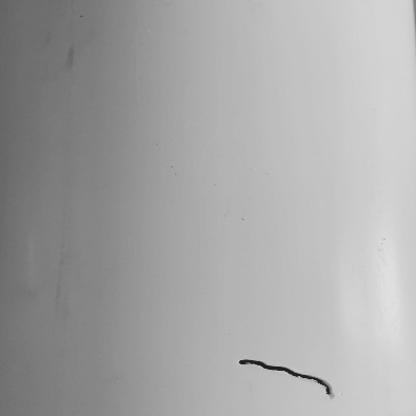fengxi: (238, 358, 335, 398)
